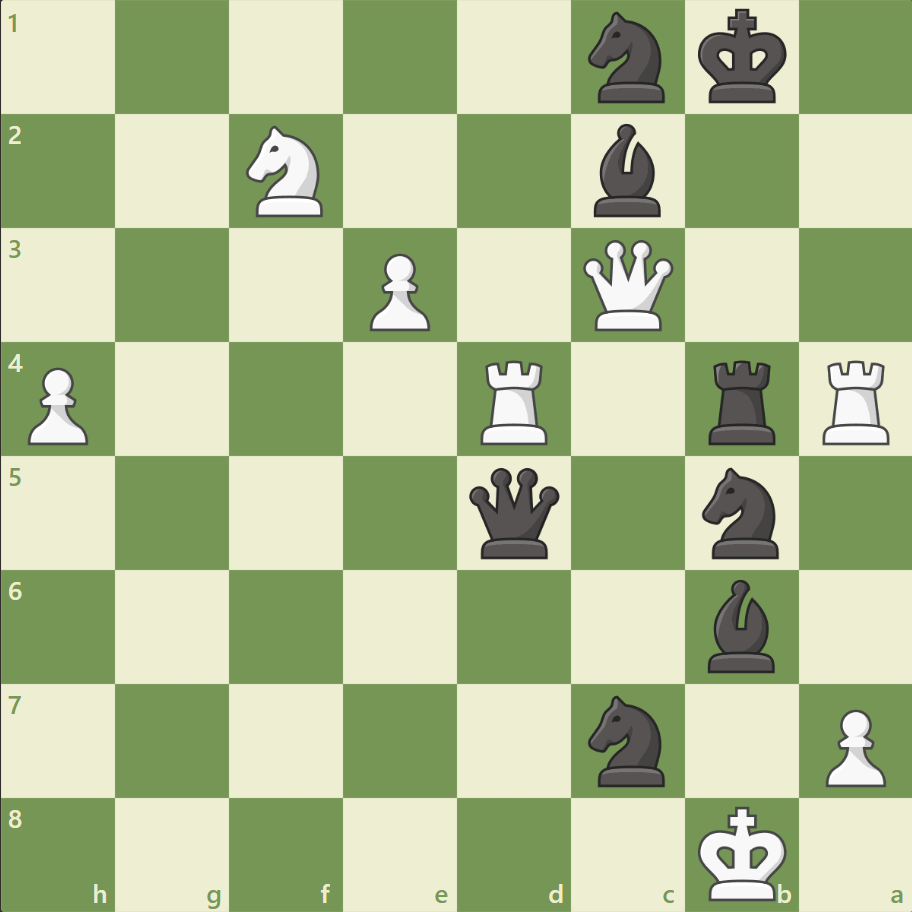K: (692, 798, 792, 906)
N: (238, 121, 335, 223)
P: (20, 359, 95, 450), (815, 700, 889, 791), (361, 246, 435, 337)
Q: (578, 236, 677, 335)
R: (814, 352, 897, 449), (473, 352, 556, 449)
b: (698, 574, 782, 676), (585, 120, 669, 222)
k: (692, 4, 792, 112)
n: (579, 688, 676, 791), (692, 461, 789, 564), (579, 7, 676, 110)
q: (464, 463, 563, 562)
r: (700, 352, 783, 449)
